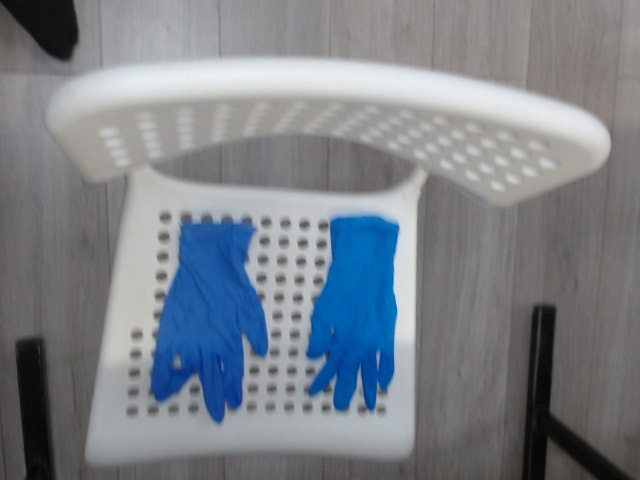medical_glove: (151, 221, 271, 420), (308, 218, 400, 408)
